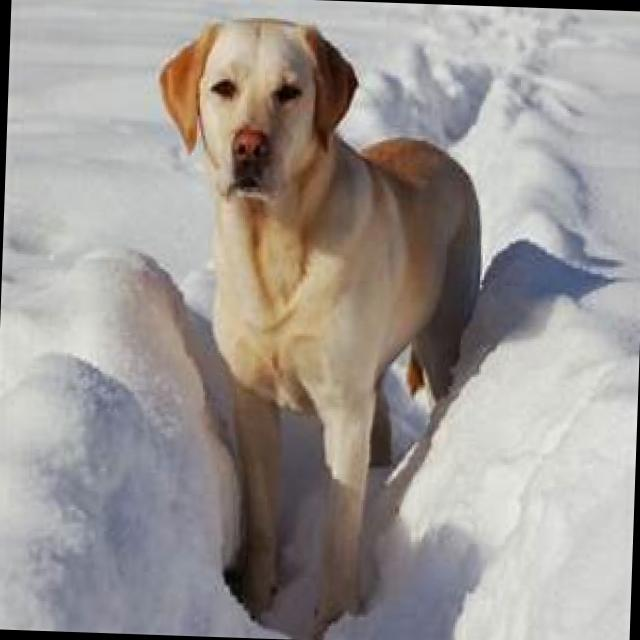animal: (136, 12, 490, 640)
